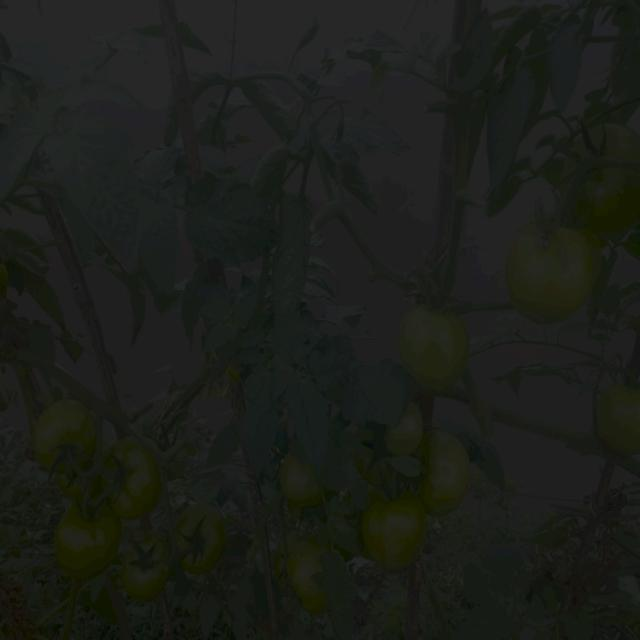tomato: (505, 216, 605, 322), (392, 299, 472, 396), (39, 401, 106, 495), (53, 503, 121, 581), (105, 435, 166, 521), (362, 494, 428, 567), (363, 418, 423, 495), (421, 431, 472, 518), (548, 119, 640, 165), (595, 372, 640, 460), (276, 535, 326, 614), (587, 175, 640, 247), (118, 529, 172, 599), (177, 502, 229, 572), (278, 461, 320, 515)
